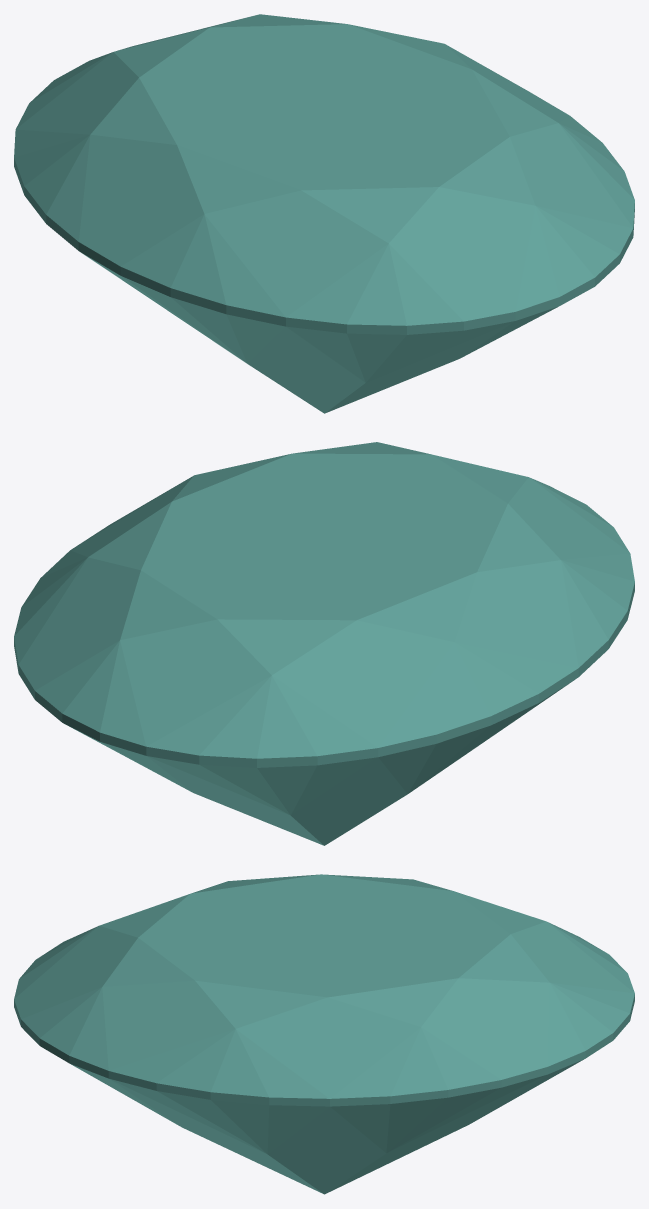
File: stone-alexandrite.glb
3 views of the same model, one above another, from view 1: azimuth 30°, elevation 25°; view 2: azimuth 150°, elevation 25°; view 3: azimuth 270°, elevation 25° (orthographic). The views are drawn at different scales.
Parts seen in each view (by area): view 1: Gemstone Alexandrite; view 2: Gemstone Alexandrite; view 3: Gemstone Alexandrite.
Part boxes in pixels (left/top/right/bottom): Gemstone Alexandrite: left=14, top=14, right=634, bottom=413; Gemstone Alexandrite: left=14, top=442, right=634, bottom=845; Gemstone Alexandrite: left=14, top=874, right=634, bottom=1194.
Bounding box in the file's own units: 2 × 1.18 × 2.56.
